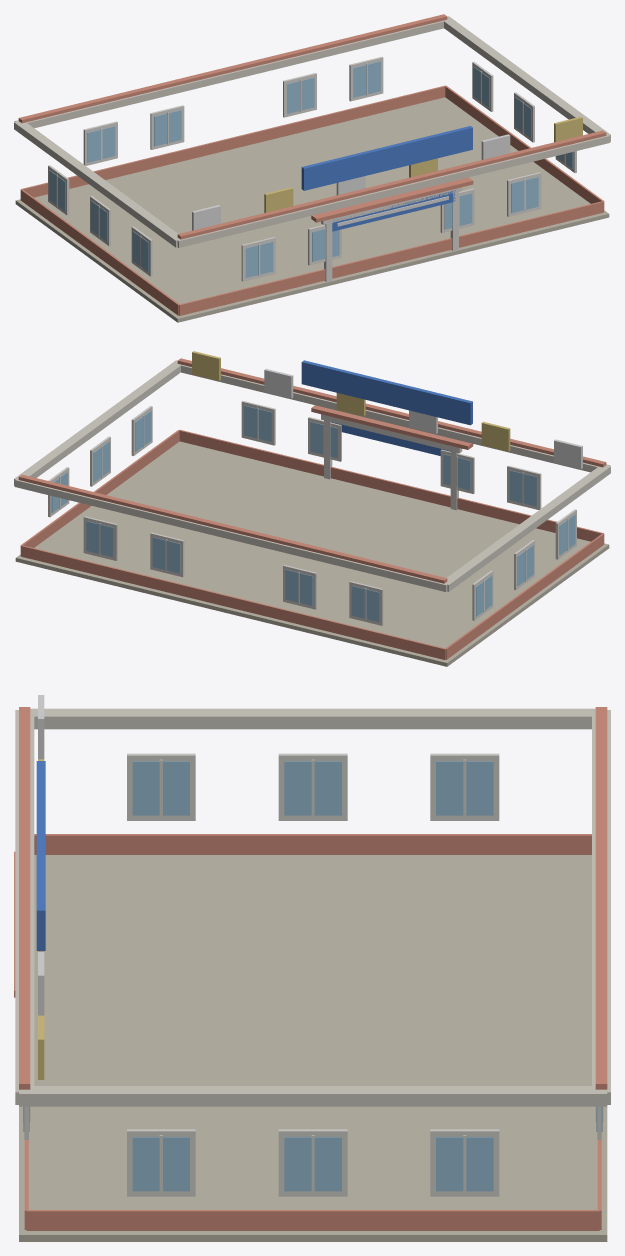
File: facade_food_hall.glb
The picture shows the model from 3 angles, top to bottom: view 1: azimuth 30°, elevation 25°; view 2: azimuth 150°, elevation 25°; view 3: azimuth 270°, elevation 25°; orthographic projection. The views are drawn at different scales.
Size of the model in its own units: 14.42 by 3.75 by 9.44.
